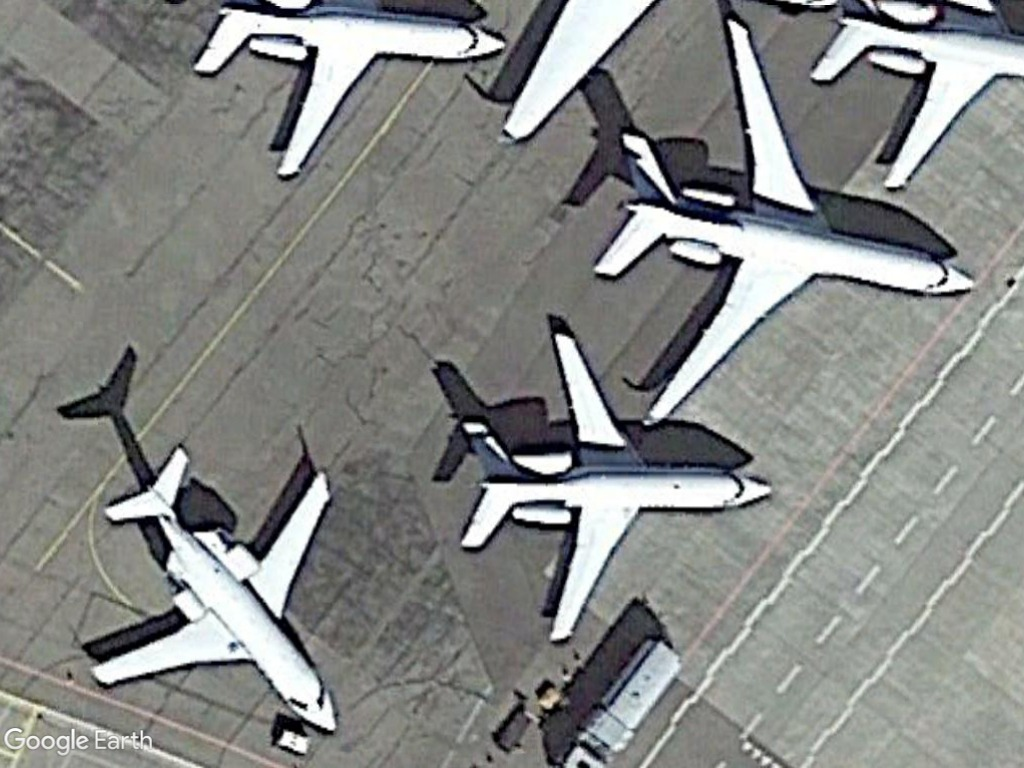chartered: (586, 10, 979, 431), (441, 320, 778, 651), (84, 438, 342, 739)
